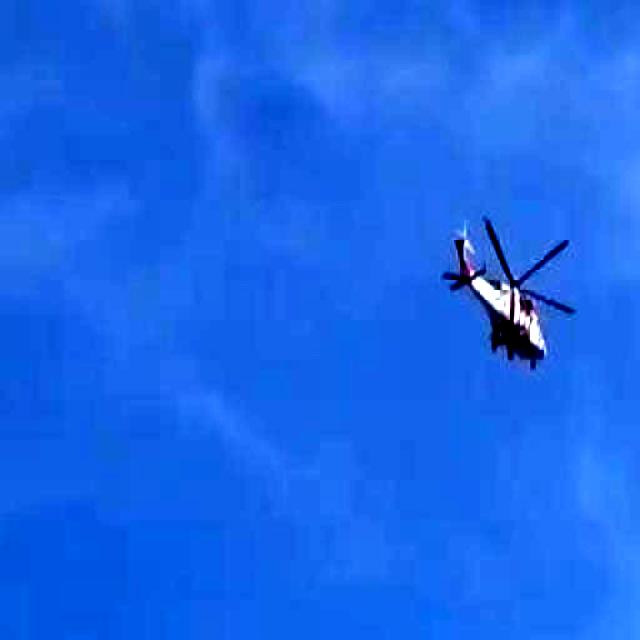drone: (422, 195, 601, 395)
